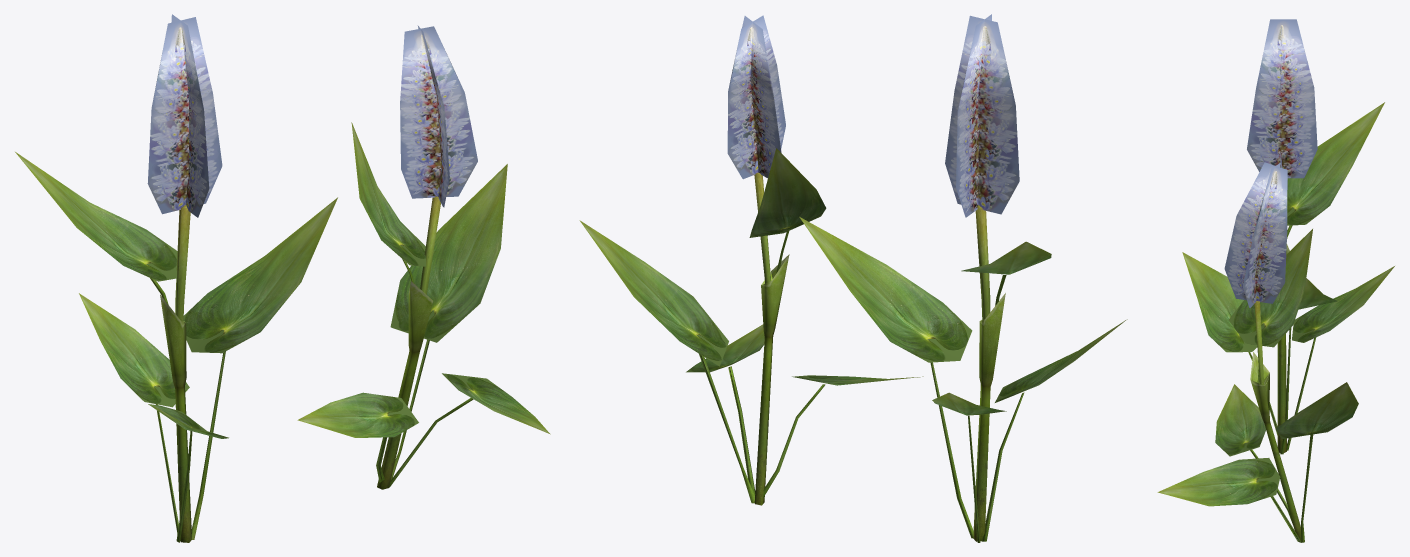
The model's file is Pontederia_m.FBX.
The picture shows the model from 3 angles, left to right: view 1: azimuth 30°, elevation 25°; view 2: azimuth 150°, elevation 25°; view 3: azimuth 270°, elevation 25°; orthographic projection. The views are drawn at different scales.
Visible parts, largest first — view 1: Pontederia, Pontederia2; view 2: Pontederia, Pontederia2; view 3: Pontederia2, Pontederia.
Boxes of the visible parts, x1,y1,x2,y2 form: Pontederia: (15, 14, 337, 542); Pontederia2: (297, 25, 550, 489); Pontederia: (799, 14, 1127, 542); Pontederia2: (579, 15, 923, 505); Pontederia2: (1157, 162, 1358, 542); Pontederia: (1182, 19, 1394, 454).
Size of the model in its own units: 75.55 by 81.02 by 40.23.
